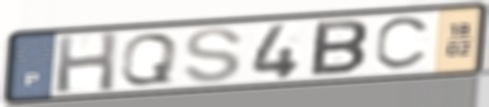4: (248, 22, 302, 81)
B: (306, 18, 371, 78)
C: (372, 14, 435, 73)
H: (53, 29, 120, 95)
Q: (117, 32, 181, 88)
S: (181, 26, 246, 85)
